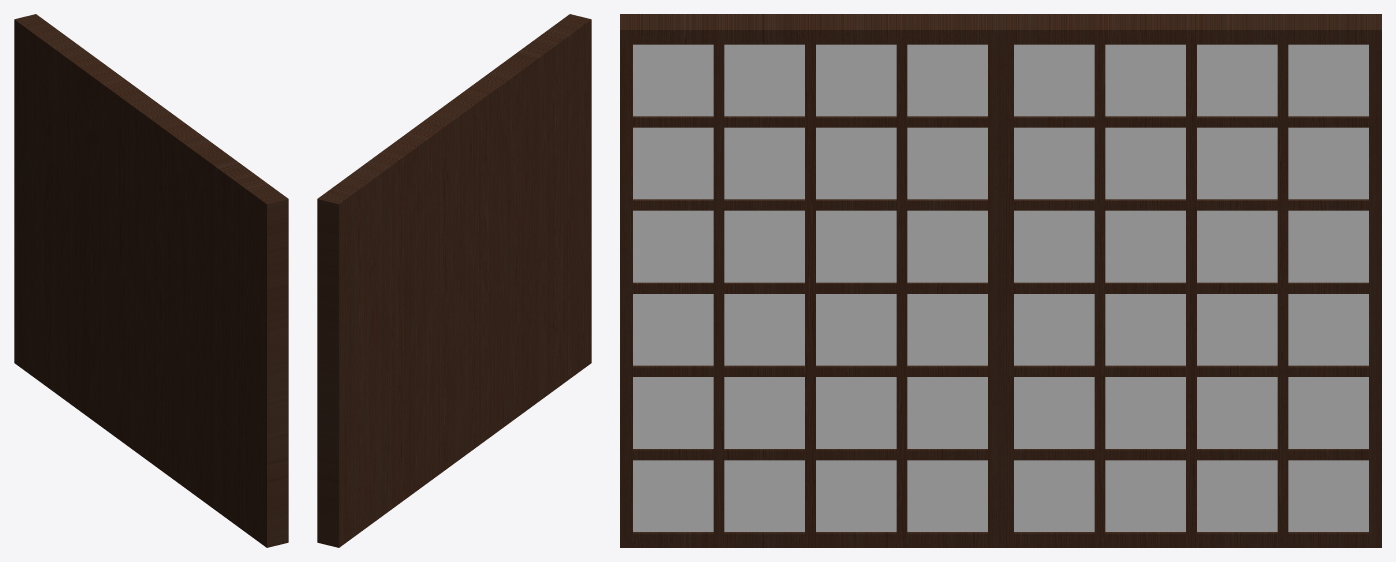
Rendered from Wall_04.fbx.
3 views of the same model, side by side, from view 1: azimuth 30°, elevation 25°; view 2: azimuth 150°, elevation 25°; view 3: azimuth 270°, elevation 25° (orthographic). The views are drawn at different scales.
Parts seen in each view (by area): view 1: Wall_04; view 2: Wall_04; view 3: Wall_04.
Part boxes in pixels (x1,y1,x2,y2): Wall_04: (14, 14, 288, 547); Wall_04: (317, 14, 591, 547); Wall_04: (620, 14, 1381, 547).
Size of the model in its own units: 20 by 300 by 400.
